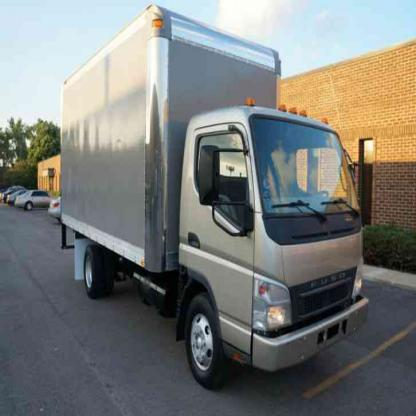truck: (62, 5, 369, 388)
